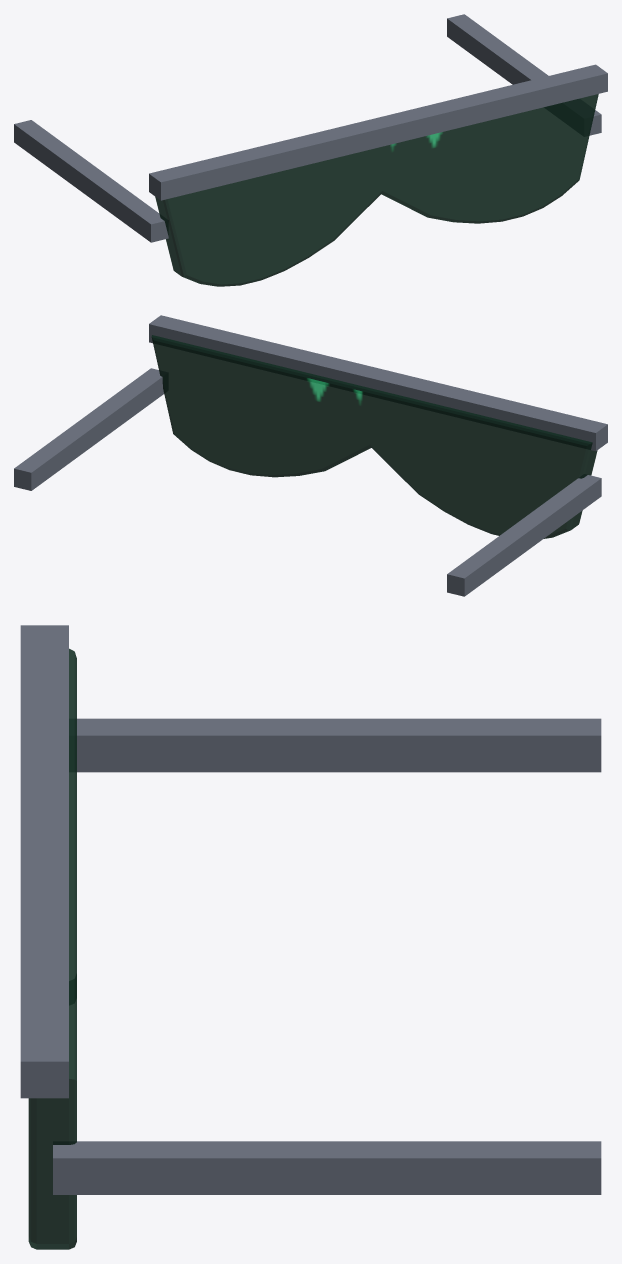
The model's file is gl_eqtz0.glb.
3 views of the same model, one above another, from view 1: azimuth 30°, elevation 25°; view 2: azimuth 150°, elevation 25°; view 3: azimuth 270°, elevation 25° (orthographic). The views are drawn at different scales.
Size of the model in its own units: 1.99 by 0.5313 by 1.11.
